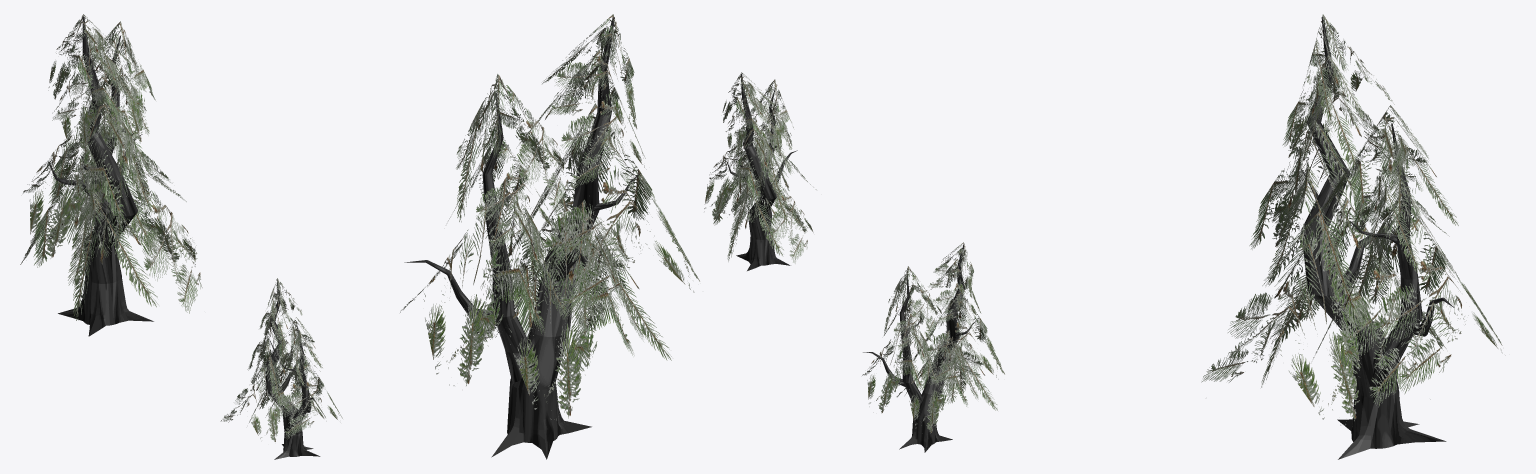
The model's file is trær test.fbx.
3 renders of one model, left to right at view 1: azimuth 30°, elevation 25°; view 2: azimuth 150°, elevation 25°; view 3: azimuth 270°, elevation 25°, orthographic. The views are drawn at different scales.
Parts seen in each view (by area): view 1: Tree_Big, Tree_Small, Branch03, Branch01, Branch02, Branch06, Branch07, Branch05, Branch08, Branch04; view 2: Tree_Big, Tree_Small, Branch05, Branch03, Branch02, Branch06, Branch01, Branch07, Branch08, Branch04; view 3: Tree_Big, Tree_Small, Branch01, Branch05, Branch03, Branch02, Branch06, Branch07, Branch04, Branch08.
Boxes of the visible parts, left/top/right/bottom form: Tree_Big: left=48, top=16, right=153, bottom=336; Tree_Small: left=220, top=278, right=342, bottom=459; Branch03: left=23, top=92, right=153, bottom=258; Branch01: left=72, top=152, right=202, bottom=320; Branch02: left=20, top=149, right=158, bottom=307; Branch06: left=52, top=21, right=155, bottom=143; Branch07: left=52, top=40, right=137, bottom=151; Branch05: left=48, top=101, right=186, bottom=256; Branch08: left=48, top=14, right=131, bottom=99; Branch04: left=74, top=67, right=149, bottom=157; Tree_Big: left=404, top=17, right=640, bottom=459; Tree_Small: left=704, top=72, right=816, bottom=270; Branch05: left=400, top=176, right=567, bottom=385; Branch03: left=508, top=103, right=699, bottom=327; Branch02: left=468, top=199, right=643, bottom=422; Branch06: left=456, top=74, right=569, bottom=222; Branch01: left=469, top=183, right=671, bottom=360; Branch07: left=516, top=50, right=646, bottom=189; Branch08: left=542, top=14, right=637, bottom=131; Branch04: left=448, top=133, right=556, bottom=251; Tree_Big: left=1300, top=17, right=1454, bottom=459; Tree_Small: left=862, top=242, right=1004, bottom=452; Branch01: left=1201, top=211, right=1380, bottom=425; Branch05: left=1313, top=191, right=1505, bottom=399; Branch03: left=1249, top=120, right=1417, bottom=326; Branch02: left=1261, top=198, right=1446, bottom=407; Branch06: left=1319, top=105, right=1458, bottom=225; Branch07: left=1282, top=55, right=1389, bottom=183; Branch04: left=1350, top=161, right=1449, bottom=274; Branch08: left=1299, top=14, right=1394, bottom=125.
Bounding box in the file's own units: 1042 × 1539 × 2304.
2 materials, 2 textured.
